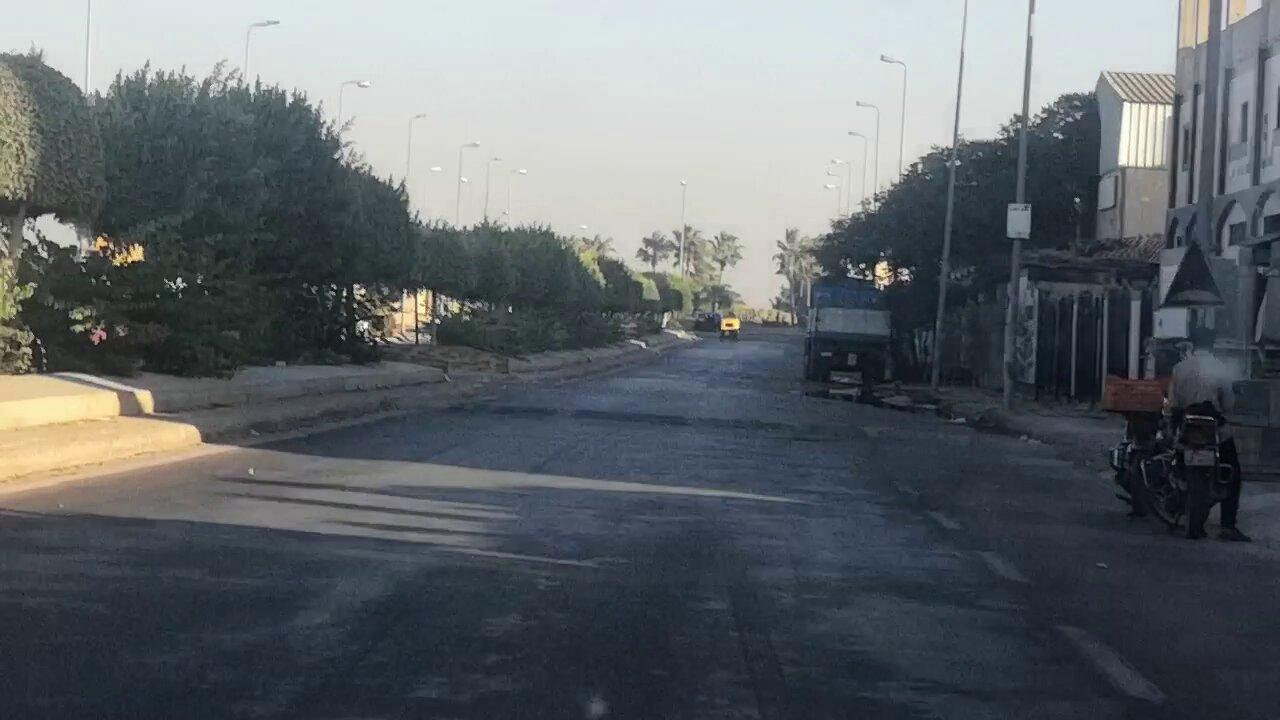Bump: (417, 385, 1018, 465)
